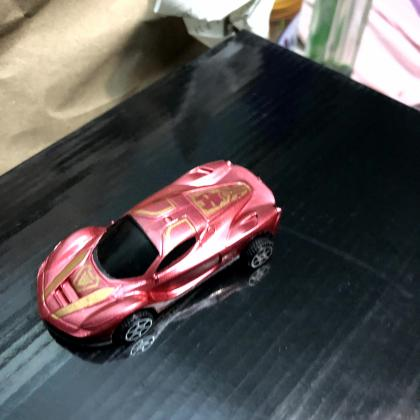Car: (35, 161, 282, 350)
